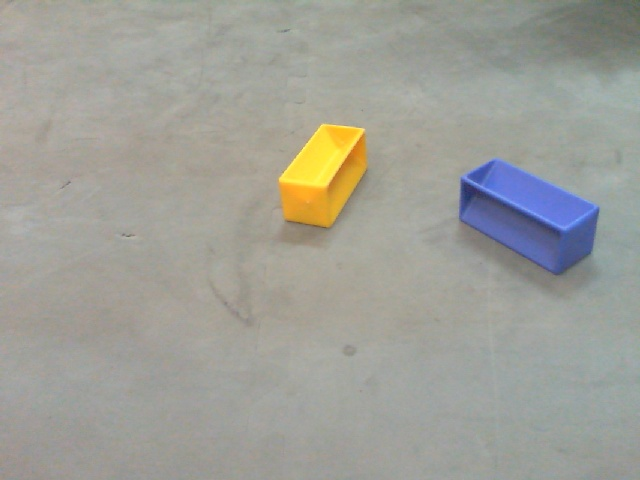BlueSample: (453, 157, 600, 274)
YellowSample: (273, 122, 371, 237)
